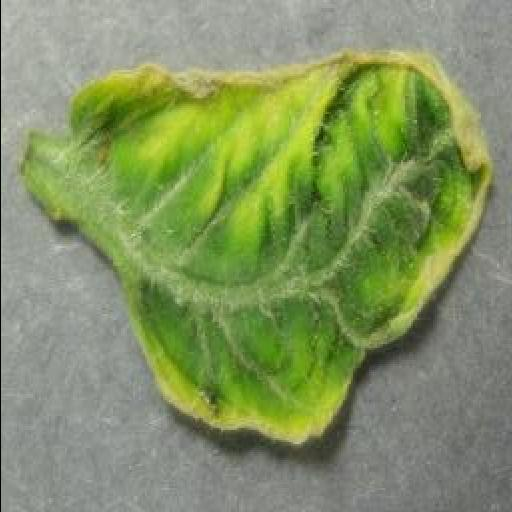disease_tomato: (66, 54, 488, 446)
